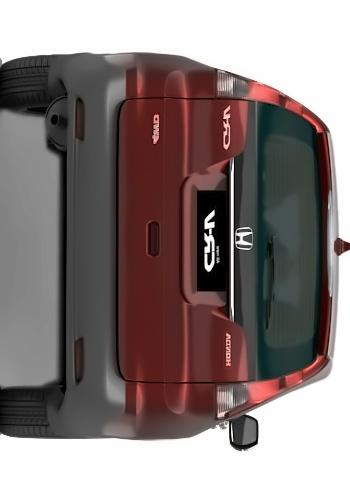Car boot: (114, 92, 330, 388)
Rear bumper: (37, 48, 150, 440)
Rear light - -L-: (209, 68, 331, 136)
Rear light - -R-: (213, 349, 332, 421)
